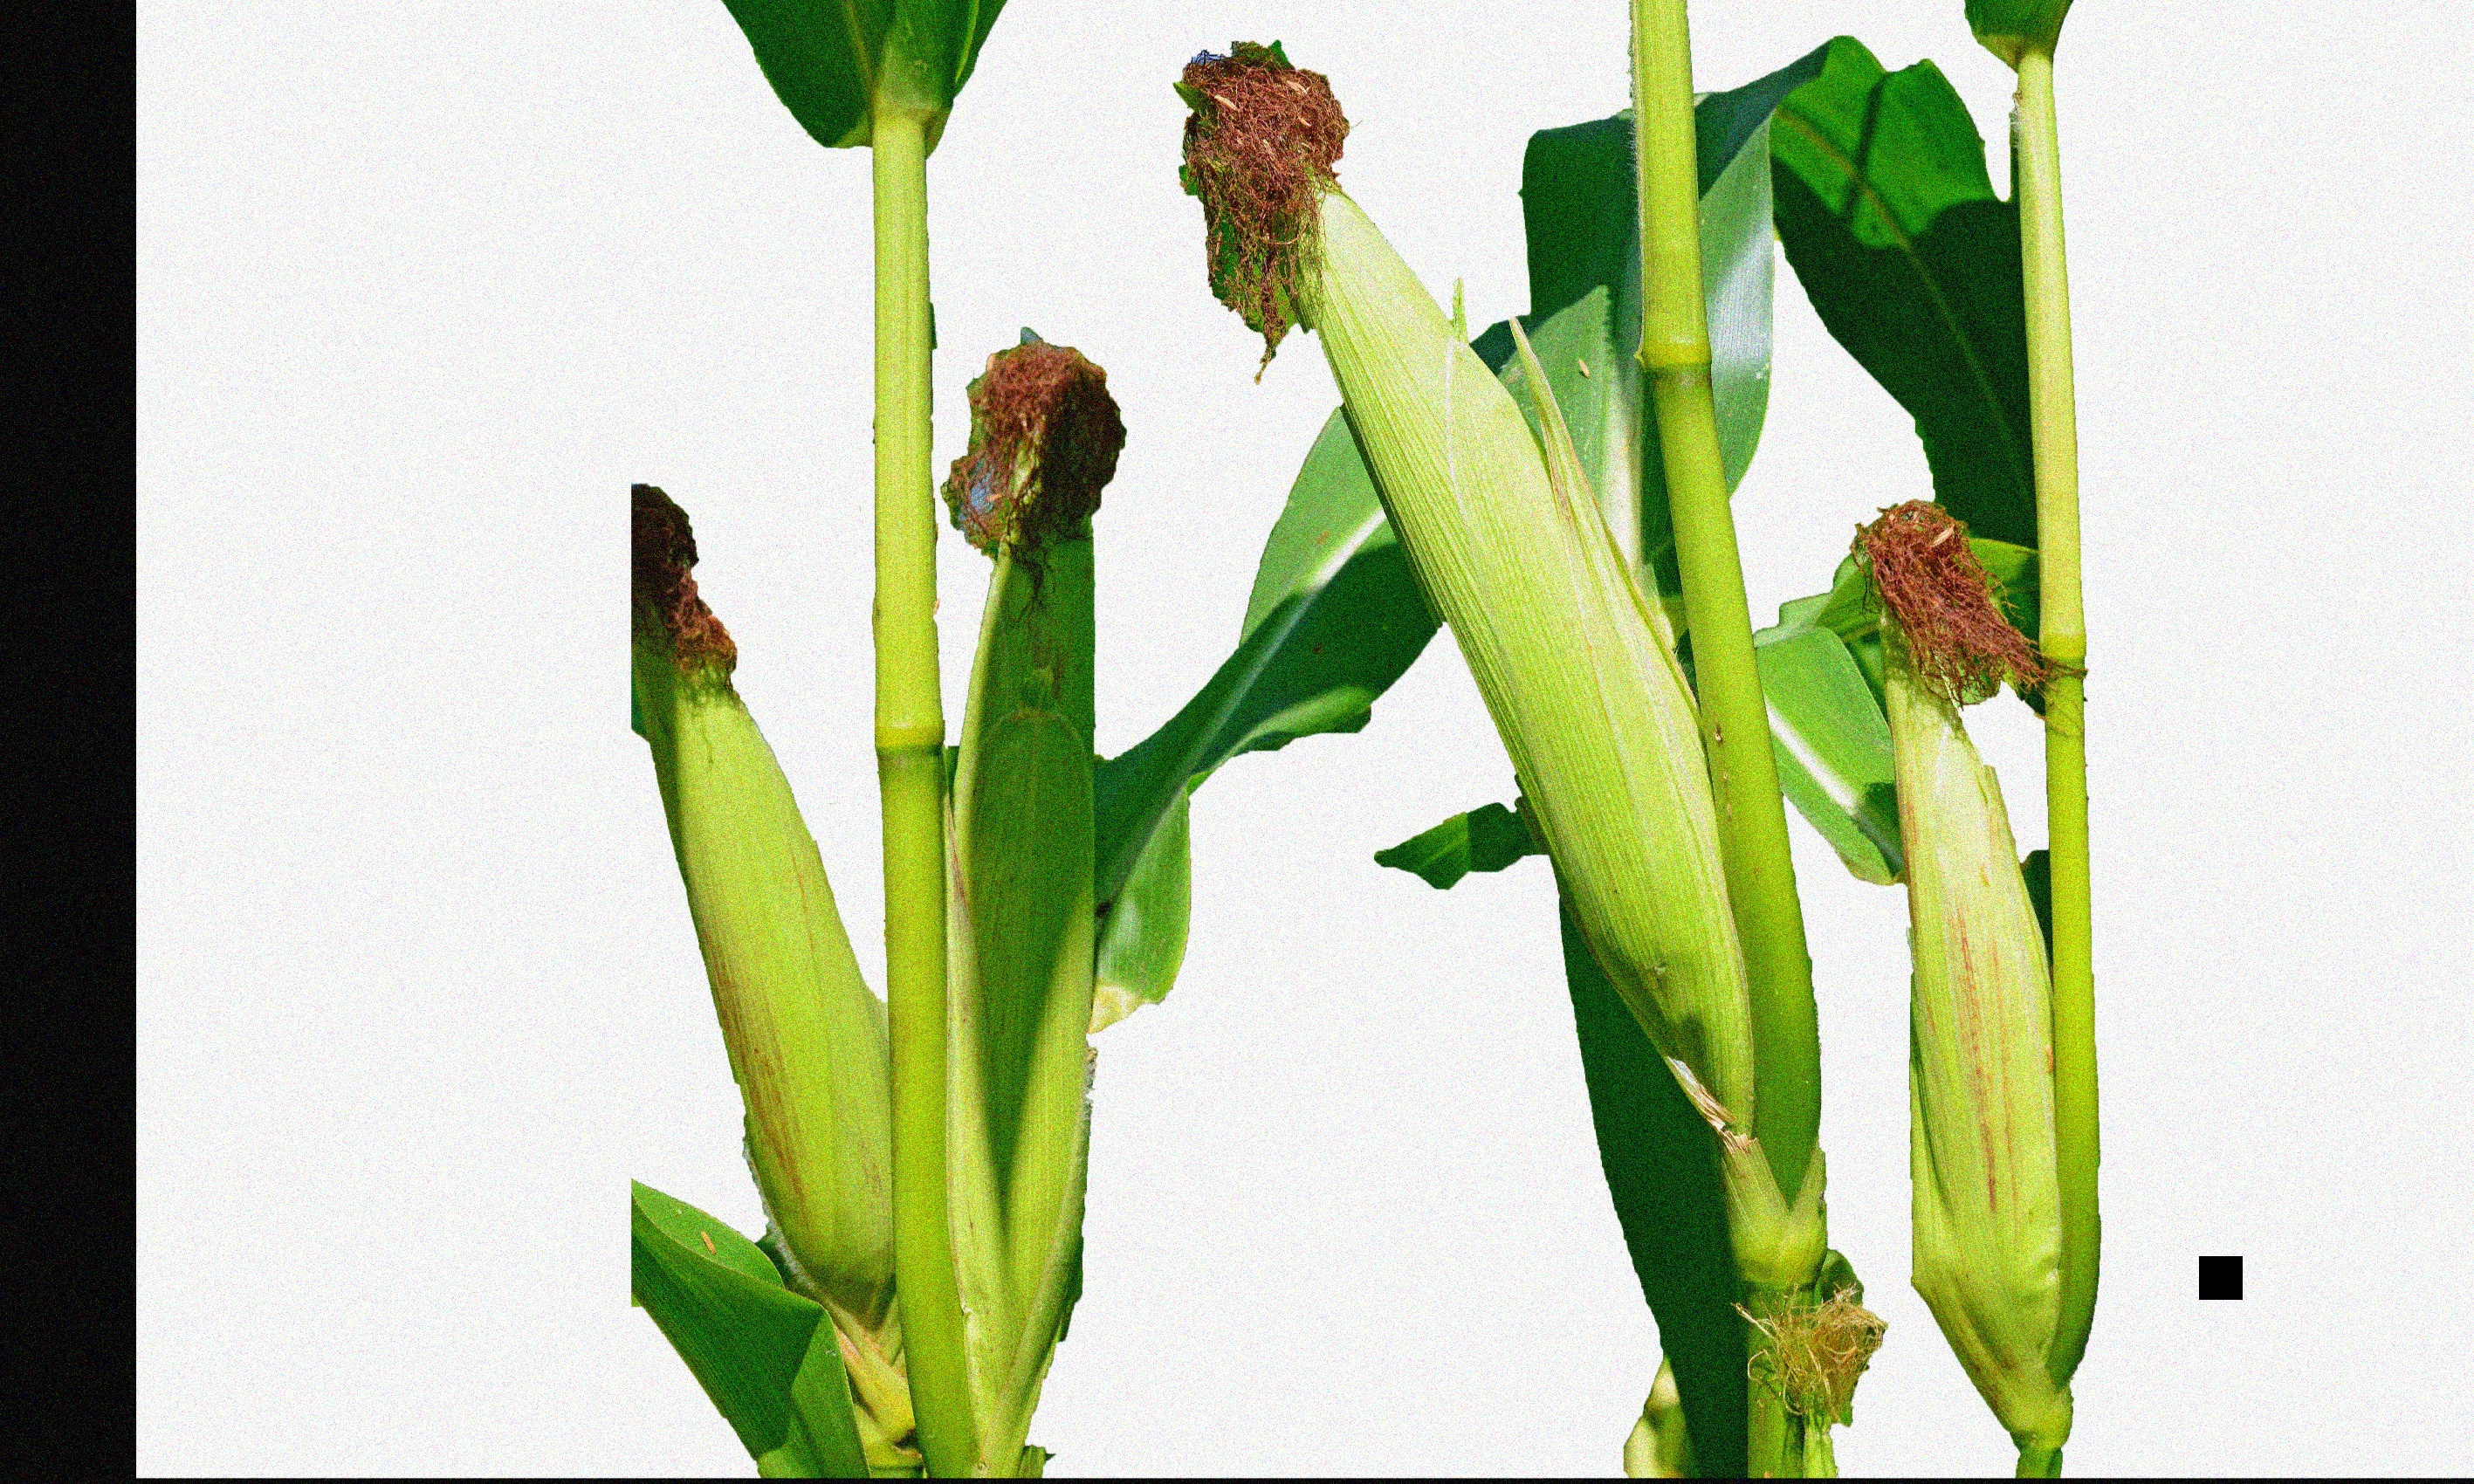corn_plant: (1174, 18, 1822, 1261), (1837, 486, 2131, 1449), (634, 481, 925, 1404), (941, 337, 1158, 1472)
